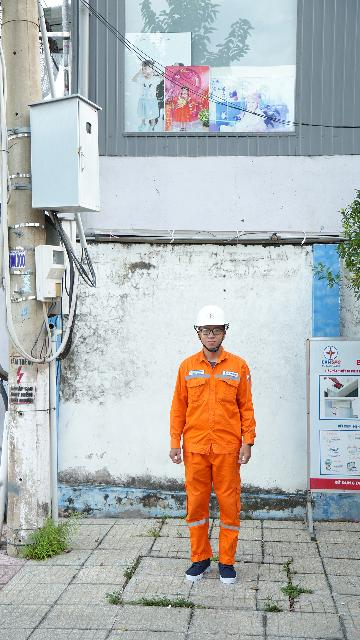helmet: (184, 292, 253, 343)
shoes: (179, 550, 212, 587), (210, 560, 243, 590)
